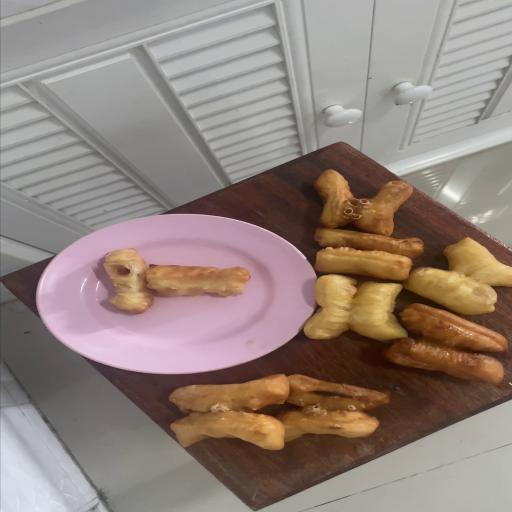street_burnt_defect: (147, 265, 252, 297)
